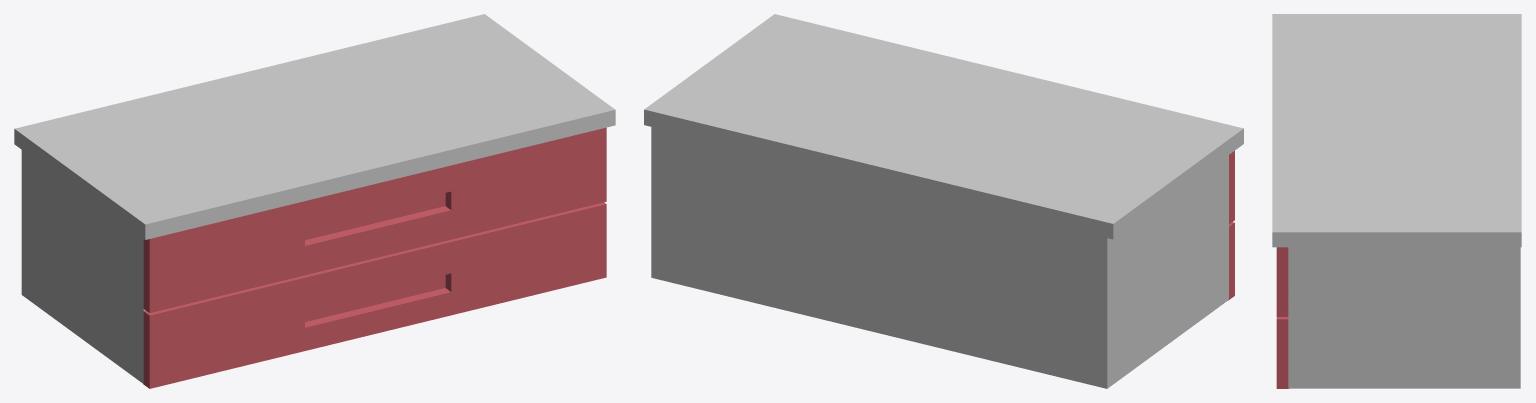
The model's file is table.fbx.
3 views of the same model, side by side, from view 1: azimuth 30°, elevation 25°; view 2: azimuth 150°, elevation 25°; view 3: azimuth 270°, elevation 25° (orthographic). The views are drawn at different scales.
Visible parts, largest first — view 1: Table; view 2: Table; view 3: Table.
Part boxes in pixels (x1,y1,x2,y2): Table: (14,14,615,388); Table: (644,14,1243,388); Table: (1272,14,1521,388).
Bounding box in the file's own units: 2.45 × 0.8354 × 1.18.
